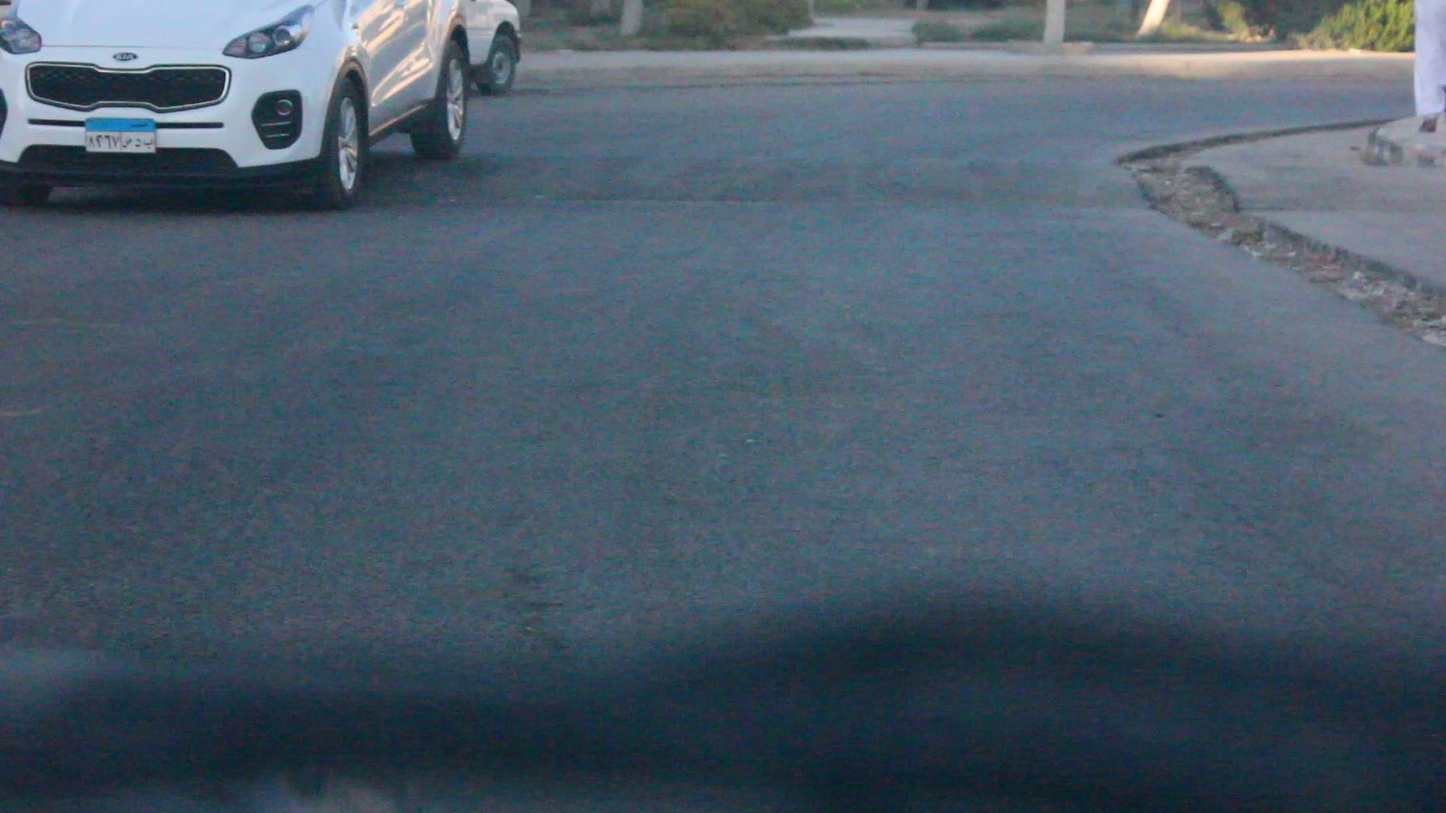Bump: (425, 152, 1157, 221)
